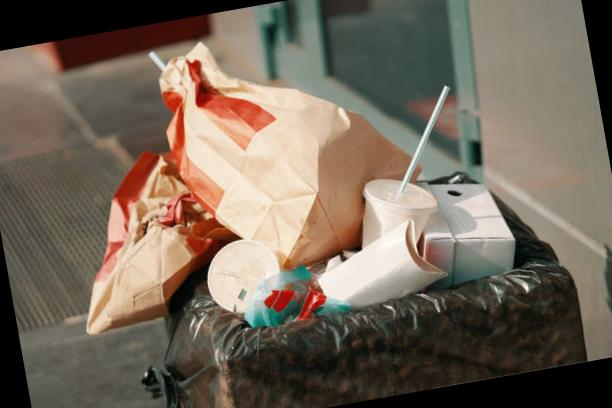trash: (118, 0, 433, 283), (55, 133, 215, 336), (293, 219, 456, 331), (394, 146, 510, 298), (340, 125, 449, 261), (224, 251, 361, 344), (188, 222, 290, 326)
trash_can_overflow: (68, 0, 583, 408)
